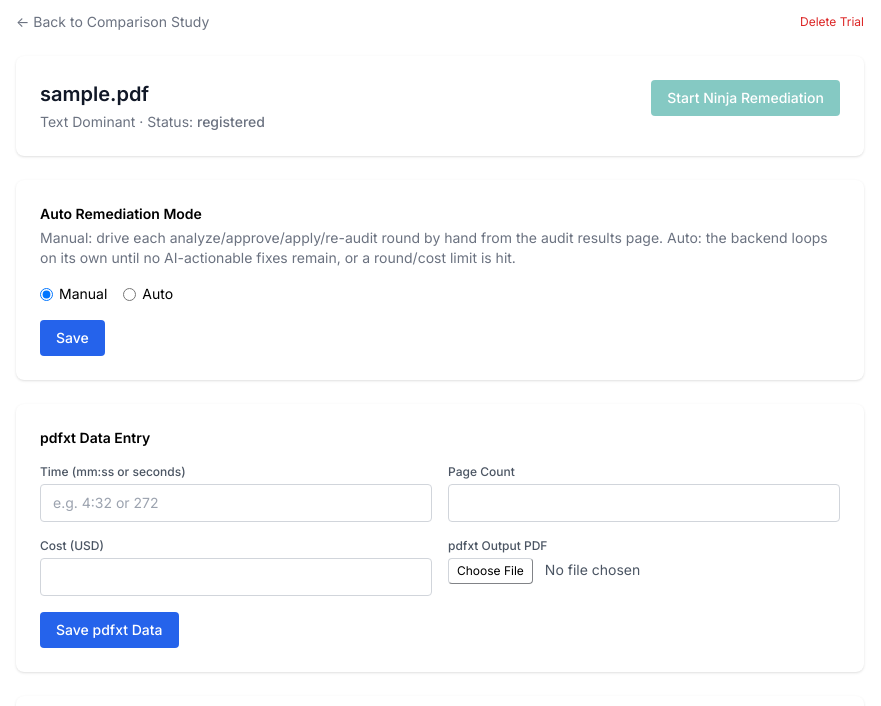
ComparisonTrialWorkspacePage › Auto Remediation Mode config › saves mode + rounds + cost limit via updateAutoModeConfig
Click the radio button labelled "Auto": (130, 294) x1=123 y1=288 x2=136 y2=300
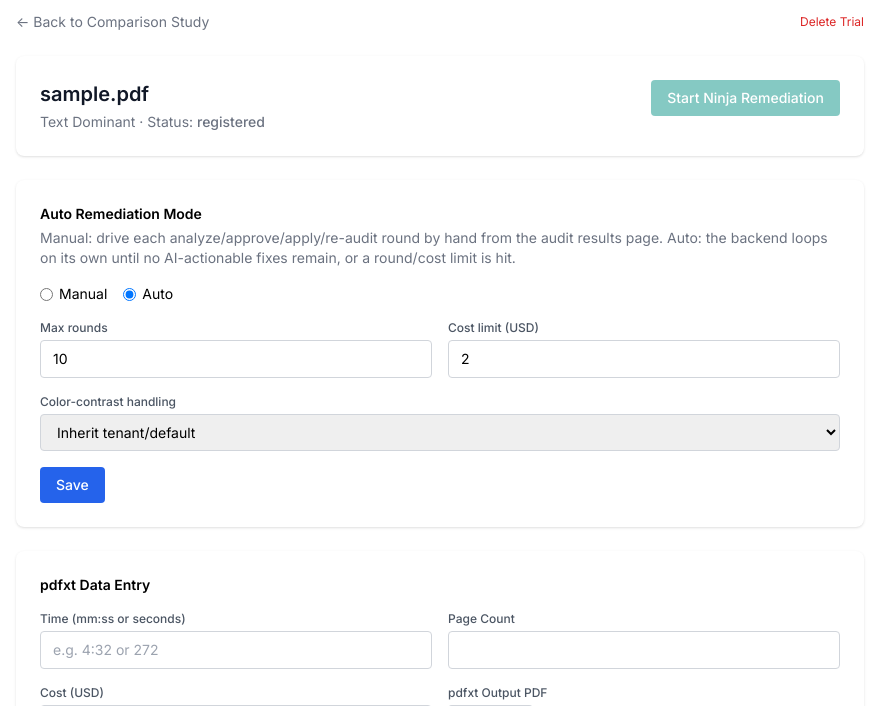
Replace the text in the number field labelled "Max rounds" with "8": (236, 359) x1=40 y1=340 x2=432 y2=378
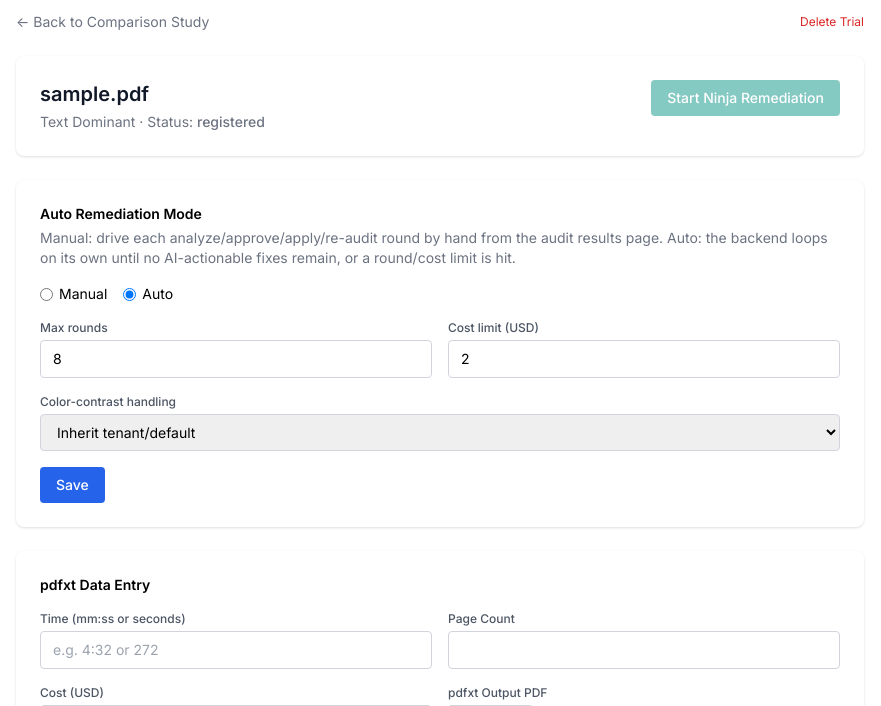
Replace the text in the number field labelled "Cost limit (USD)" with "3.5": (644, 359) x1=448 y1=340 x2=840 y2=378
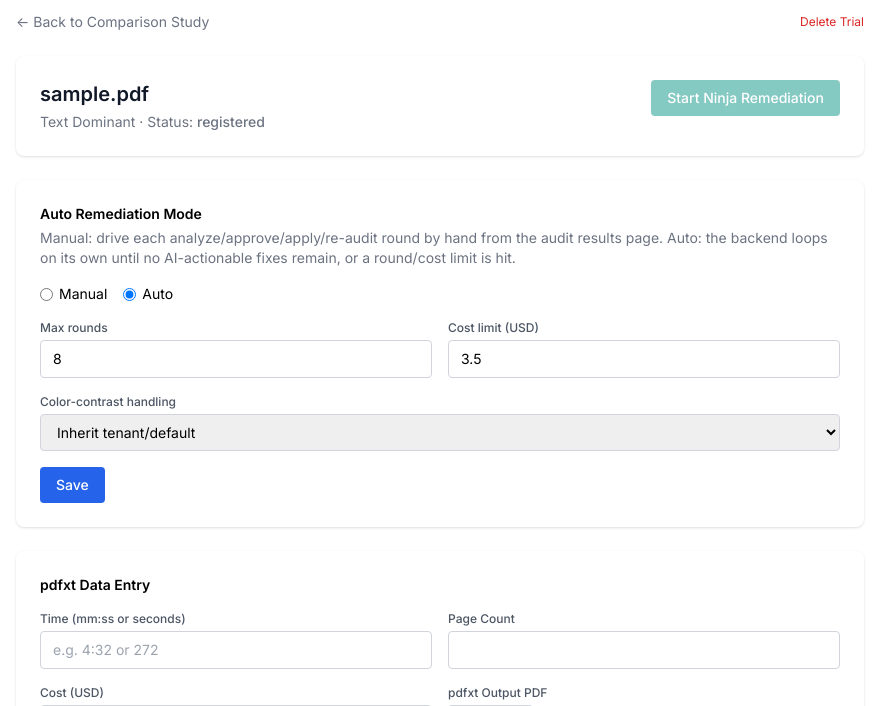
Click the button "Save": (72, 485) x1=40 y1=467 x2=105 y2=503
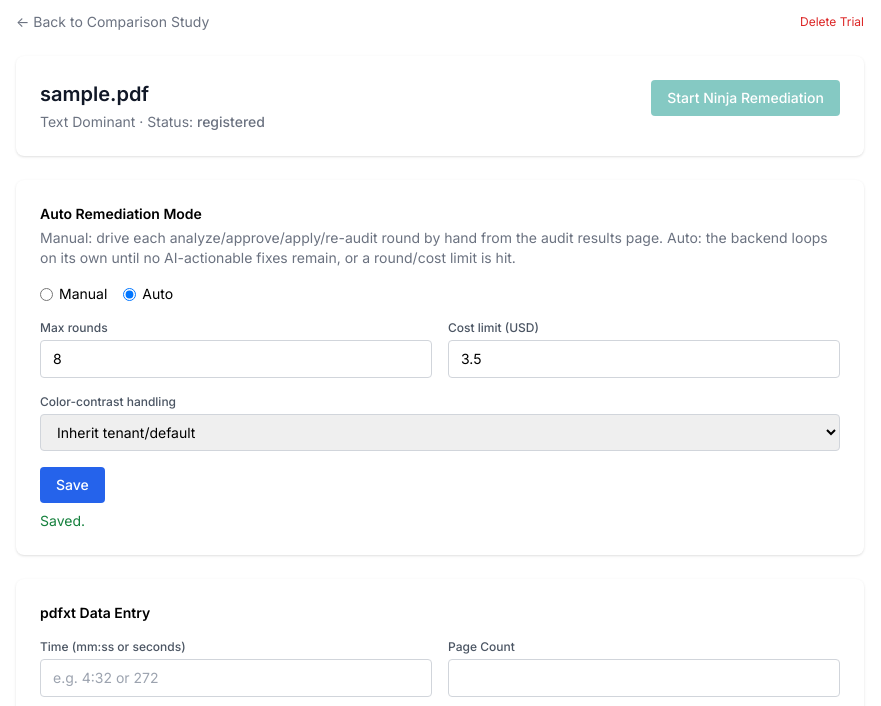
Now the text "Saved." is shown, box x1=40 y1=512 x2=85 y2=529
